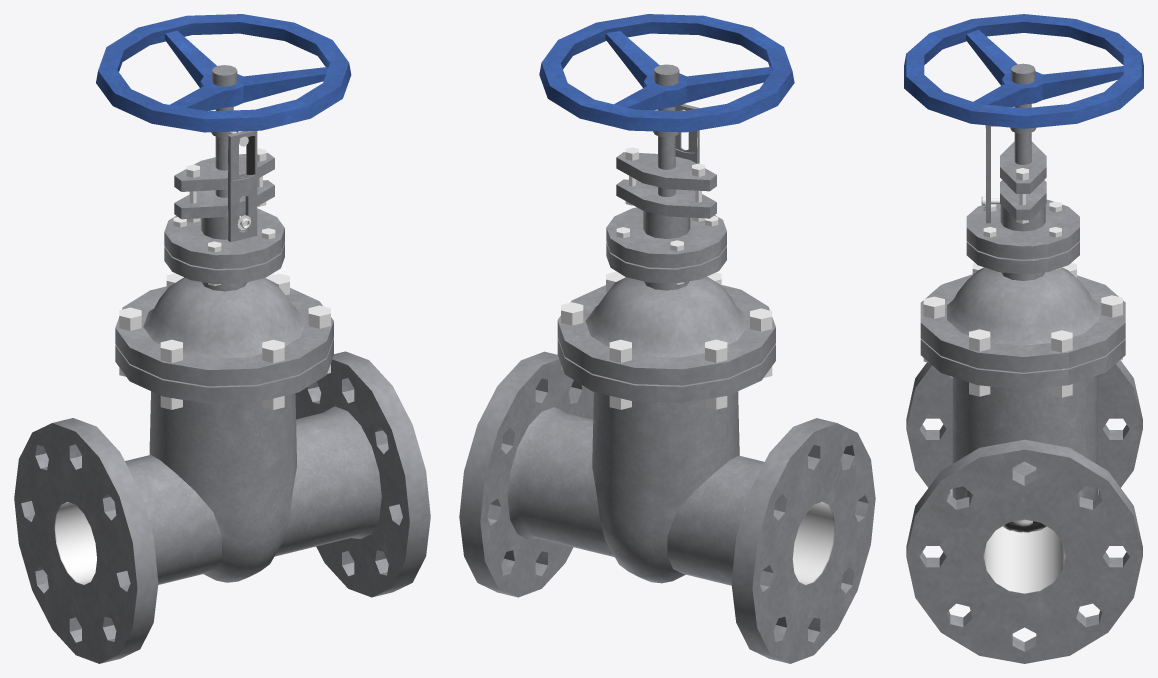
File: 00anganzhafa.fbx
The picture shows the model from 3 angles, left to right: view 1: azimuth 30°, elevation 25°; view 2: azimuth 150°, elevation 25°; view 3: azimuth 270°, elevation 25°; orthographic projection. The views are drawn at different scales.
Parts seen in each view (by area): view 1: anganzhafamen; view 2: anganzhafamen; view 3: anganzhafamen.
Part boxes in pixels (x1=…): anganzhafamen: x1=14, y1=14, x2=430, y2=663; anganzhafamen: x1=459, y1=14, x2=875, y2=663; anganzhafamen: x1=904, y1=14, x2=1143, y2=663.
Bounding box in the file's own units: 44.03 × 79.29 × 32.47.
